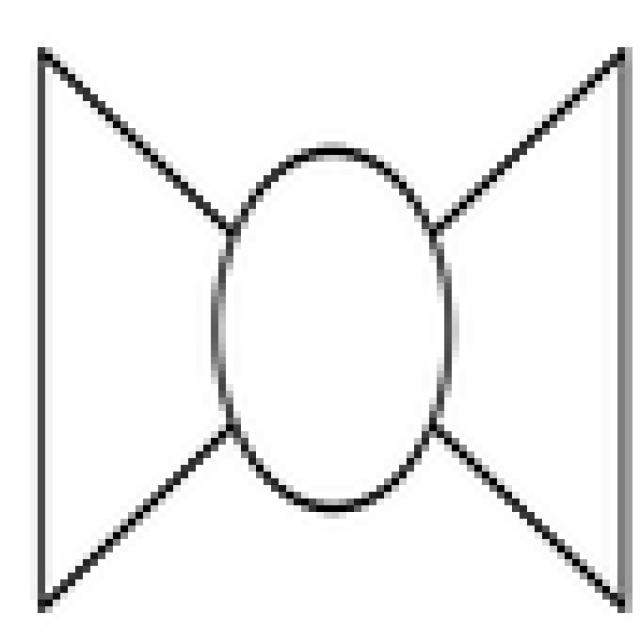ball valve: (38, 46, 625, 613)
